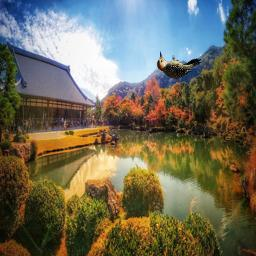Woodpecker: (153, 50, 205, 79)
